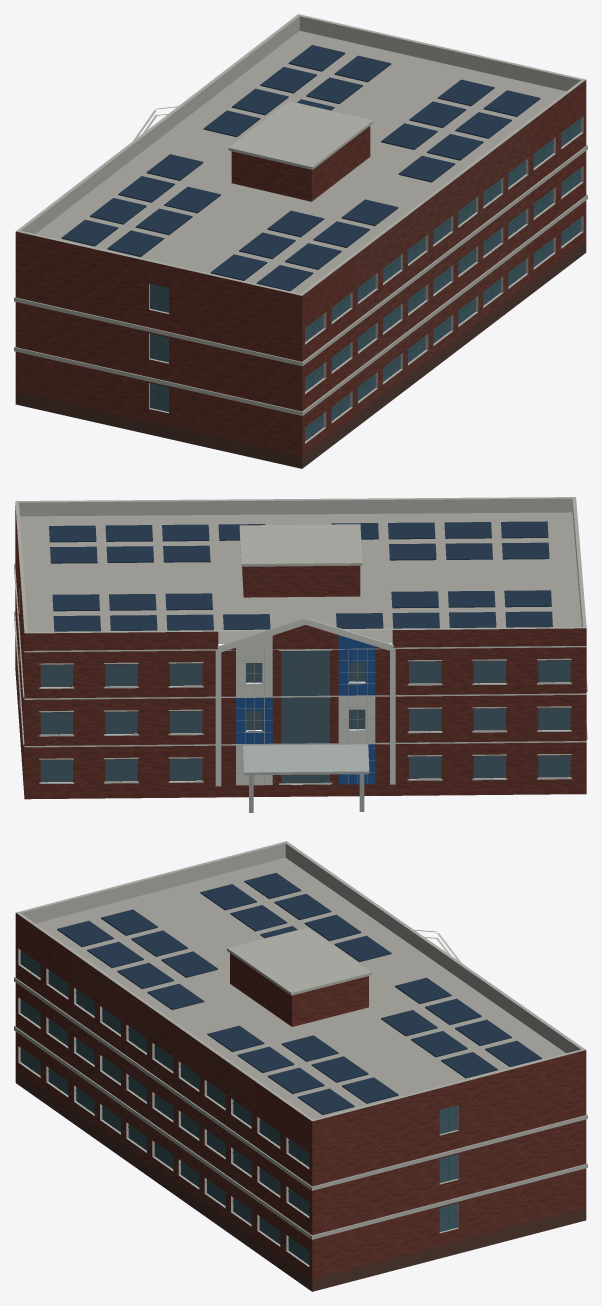
3 renders of one model, top to bottom at view 1: azimuth 30°, elevation 25°; view 2: azimuth 150°, elevation 25°; view 3: azimuth 270°, elevation 25°, orthographic. The views are drawn at different scales.
Parts seen in each view (by area): view 1: newdorm__brick, newdorm__roof, newdorm__trim-concrete, newdorm__solar-panel, newdorm__wall-plaster, newdorm__glass, newdorm__base-stone, newdorm__frame; view 2: newdorm__brick, newdorm__roof, newdorm__solar-panel, newdorm__trim-concrete, newdorm__glass, newdorm__dorm-pale-panel, newdorm__dorm-canopy-metal, newdorm__dorm-frame, newdorm__dorm-blue-panel; view 3: newdorm__brick, newdorm__roof, newdorm__trim-concrete, newdorm__solar-panel, newdorm__wall-plaster, newdorm__glass, newdorm__base-stone, newdorm__frame.
Part boxes in pixels (<box>): newdorm__brick: <box>15,80,586,456</box>; newdorm__roof: <box>36,31,565,293</box>; newdorm__trim-concrete: <box>14,14,587,443</box>; newdorm__solar-panel: <box>61,45,540,291</box>; newdorm__wall-plaster: <box>355,122,530,415</box>; newdorm__glass: <box>150,118,581,441</box>; newdorm__base-stone: <box>15,240,586,468</box>; newdorm__frame: <box>150,121,581,435</box>; newdorm__brick: <box>15,505,586,799</box>; newdorm__roof: <box>20,512,581,643</box>; newdorm__solar-panel: <box>49,521,552,631</box>; newdorm__trim-concrete: <box>14,497,587,785</box>; newdorm__glass: <box>41,650,569,783</box>; newdorm__dorm-pale-panel: <box>24,619,586,786</box>; newdorm__dorm-canopy-metal: <box>243,744,369,812</box>; newdorm__dorm-frame: <box>40,650,570,783</box>; newdorm__dorm-blue-panel: <box>236,635,375,784</box>; newdorm__brick: <box>15,913,586,1279</box>; newdorm__roof: <box>36,857,565,1119</box>; newdorm__trim-concrete: <box>14,841,587,1266</box>; newdorm__solar-panel: <box>57,872,541,1114</box>; newdorm__wall-plaster: <box>71,952,254,1238</box>; newdorm__glass: <box>20,950,457,1264</box>; newdorm__base-stone: <box>15,1071,586,1291</box>; newdorm__frame: <box>20,953,457,1258</box>.
Bounding box in the file's own units: 44.52 × 14.1 × 38.32.
12 materials, 2 textured.
